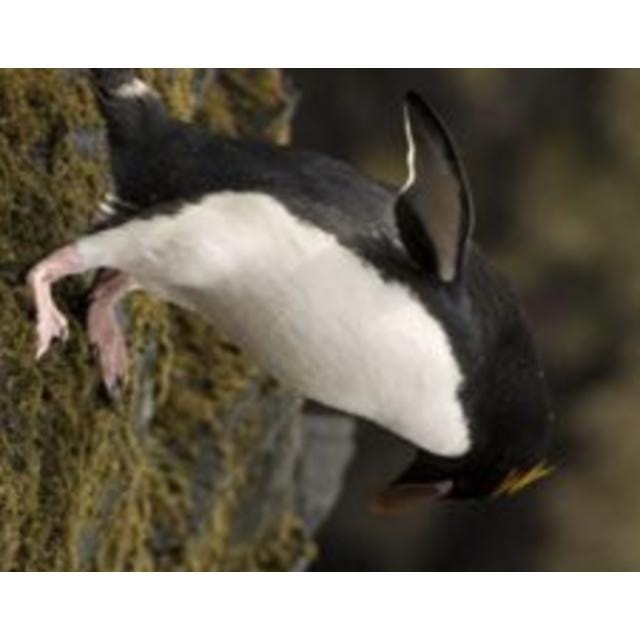penguin: (25, 73, 567, 516)
